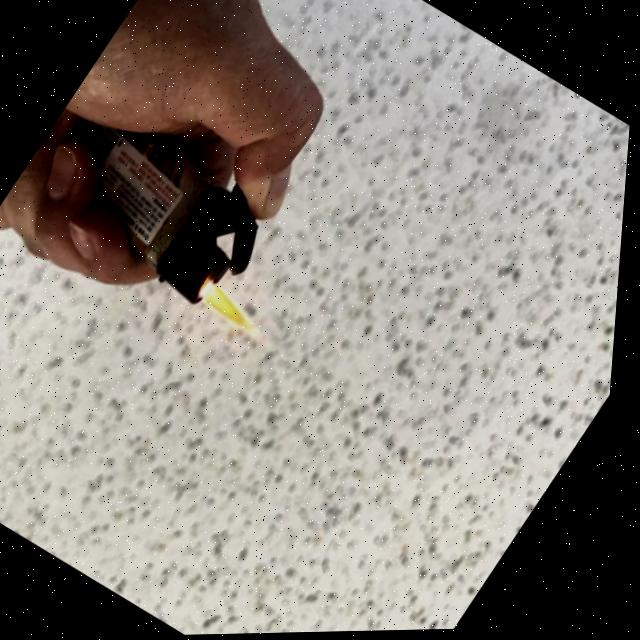Fire: (197, 280, 272, 338)
